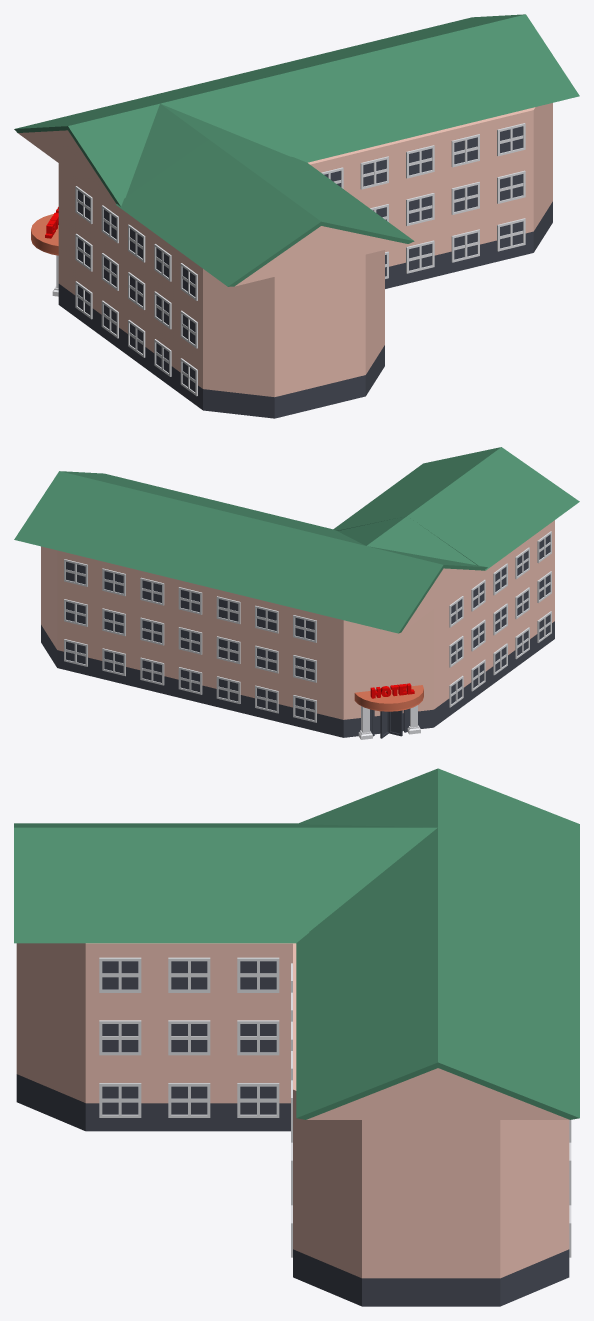
Rendered from Hotel.fbx.
The picture shows the model from 3 angles, top to bottom: view 1: azimuth 30°, elevation 25°; view 2: azimuth 150°, elevation 25°; view 3: azimuth 270°, elevation 25°; orthographic projection. The views are drawn at different scales.
Visible parts, largest first — view 1: roof_straight_731, roof_straight_730, block_corner_small_691, roof_split_729, block_694, block_692, block_corner_small_690, block_corner_small_698, block_corner_large_699, window_wide_757, window_wide_759, window_wide_753 (+8 smaller); view 2: roof_straight_731, block_694, roof_split_729, roof_straight_730, block_corner_large_699, block_692, block_corner_small_697, block_corner_small_691, block_round_700, wall_doorRevolving_736, window_wide_760, window_wide_762 (+20 smaller); view 3: roof_straight_731, roof_straight_730, roof_split_729, block_corner_small_698, block_corner_small_697, block_corner_small_690, block_692, window_wide_781, window_wide_782, window_wide_784, window_wide_785, window_wide_787 (+4 smaller).
Part boxes in pixels (left/top/right/bottom): roof_straight_731: left=191, top=14, right=579, bottom=162; roof_straight_730: left=116, top=139, right=414, bottom=286; block_corner_small_691: left=176, top=250, right=320, bottom=418; roof_split_729: left=14, top=81, right=292, bottom=206; block_694: left=308, top=119, right=488, bottom=288; block_692: left=71, top=173, right=176, bottom=390; block_corner_small_690: left=320, top=250, right=384, bottom=407; block_corner_small_698: left=486, top=103, right=552, bottom=263; block_corner_large_699: left=58, top=163, right=71, bottom=313; window_wide_757: left=497, top=218, right=525, bottom=251; window_wide_759: left=497, top=123, right=525, bottom=156; window_wide_753: left=406, top=145, right=434, bottom=178; roof_straight_731: left=14, top=471, right=335, bottom=596; block_694: left=95, top=559, right=324, bottom=732; roof_split_729: left=244, top=516, right=487, bottom=633; roof_straight_730: left=333, top=447, right=579, bottom=570; block_corner_large_699: left=324, top=601, right=444, bottom=737; block_692: left=445, top=536, right=532, bottom=719; block_corner_small_697: left=41, top=546, right=95, bottom=676; block_corner_small_691: left=533, top=520, right=554, bottom=654; block_round_700: left=354, top=685, right=423, bottom=711; wall_doorRevolving_736: left=370, top=708, right=409, bottom=738; window_wide_760: left=216, top=596, right=240, bottom=624; window_wide_762: left=216, top=636, right=240, bottom=664; roof_straight_731: left=296, top=882, right=579, bottom=1119; roof_straight_730: left=14, top=823, right=309, bottom=943; roof_split_729: left=299, top=768, right=579, bottom=942; block_corner_small_698: left=293, top=1060, right=431, bottom=1306; block_corner_small_697: left=431, top=1120, right=569, bottom=1306; block_corner_small_690: left=16, top=943, right=154, bottom=1131; block_692: left=154, top=943, right=292, bottom=1131; window_wide_781: left=237, top=957, right=279, bottom=992; window_wide_782: left=237, top=1020, right=279, bottom=1055; window_wide_784: left=168, top=957, right=210, bottom=992; window_wide_785: left=168, top=1020, right=210, bottom=1055; window_wide_787: left=99, top=957, right=141, bottom=992.
Bounding box in the file's own units: 101 × 39.19 × 81.91.
